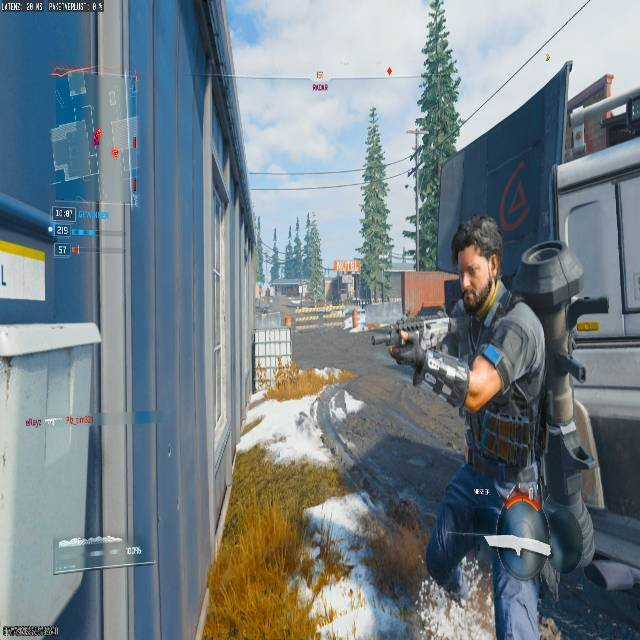head: (452, 214, 503, 313)
player: (385, 212, 603, 640)
